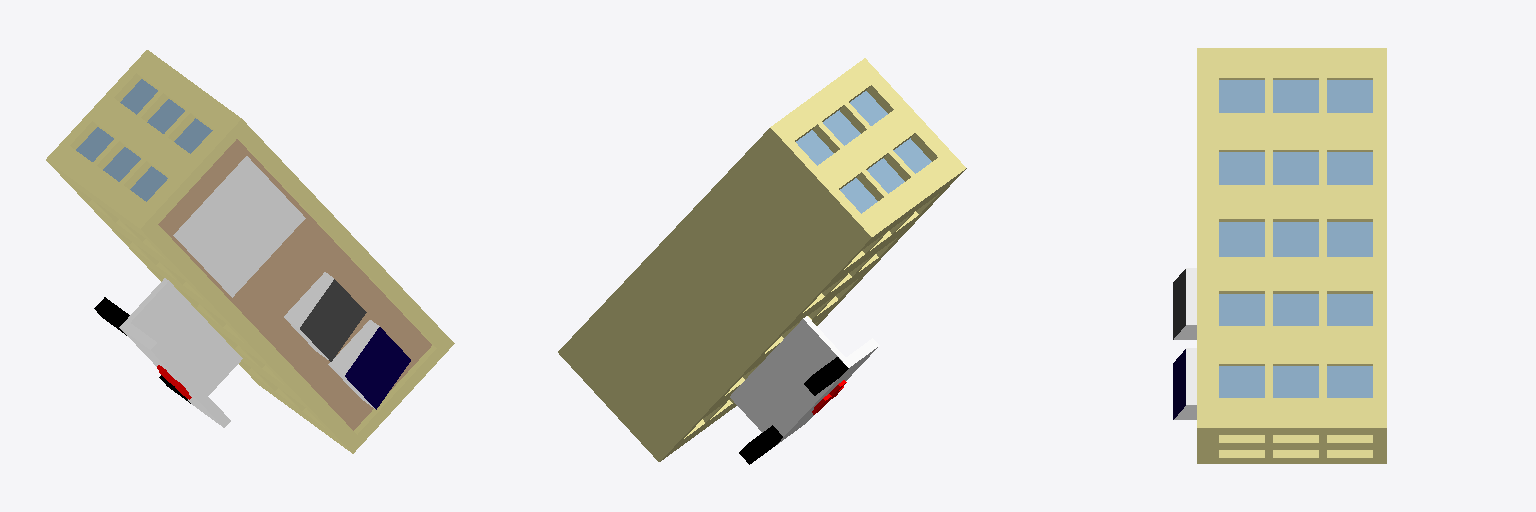
The model's file is Hospital.obj.
The picture shows the model from 3 angles: view 1: azimuth 30°, elevation 25°; view 2: azimuth 150°, elevation 25°; view 3: azimuth 270°, elevation 25°; orthographic projection.
Visible parts, largest first — view 1: pPlane1.001_Mesh.021; view 2: pPlane1.001_Mesh.021; view 3: pPlane1.001_Mesh.021.
Boxes of the visible parts, x1=… form: pPlane1.001_Mesh.021: x1=46, y1=50, x2=454, y2=453; pPlane1.001_Mesh.021: x1=558, y1=58, x2=966, y2=464; pPlane1.001_Mesh.021: x1=1173, y1=48, x2=1386, y2=463.
Bounding box in the file's own units: 83.26 × 91.72 × 48.86.